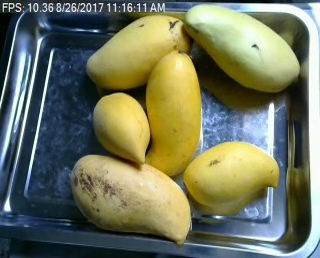Mango: (71, 154, 192, 243), (185, 5, 299, 91), (88, 15, 195, 90), (145, 49, 201, 174), (183, 140, 279, 206), (93, 93, 149, 164)
